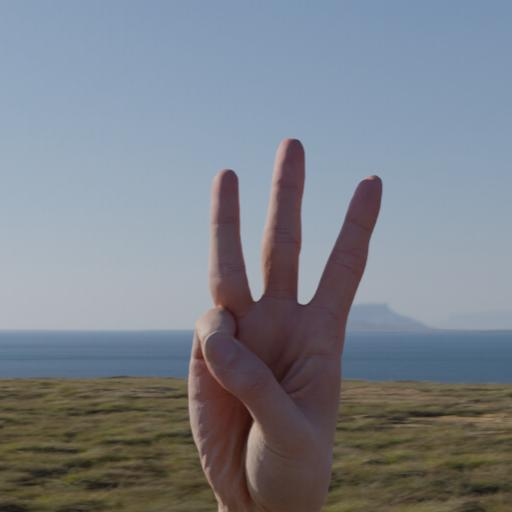W: (169, 130, 397, 512)
